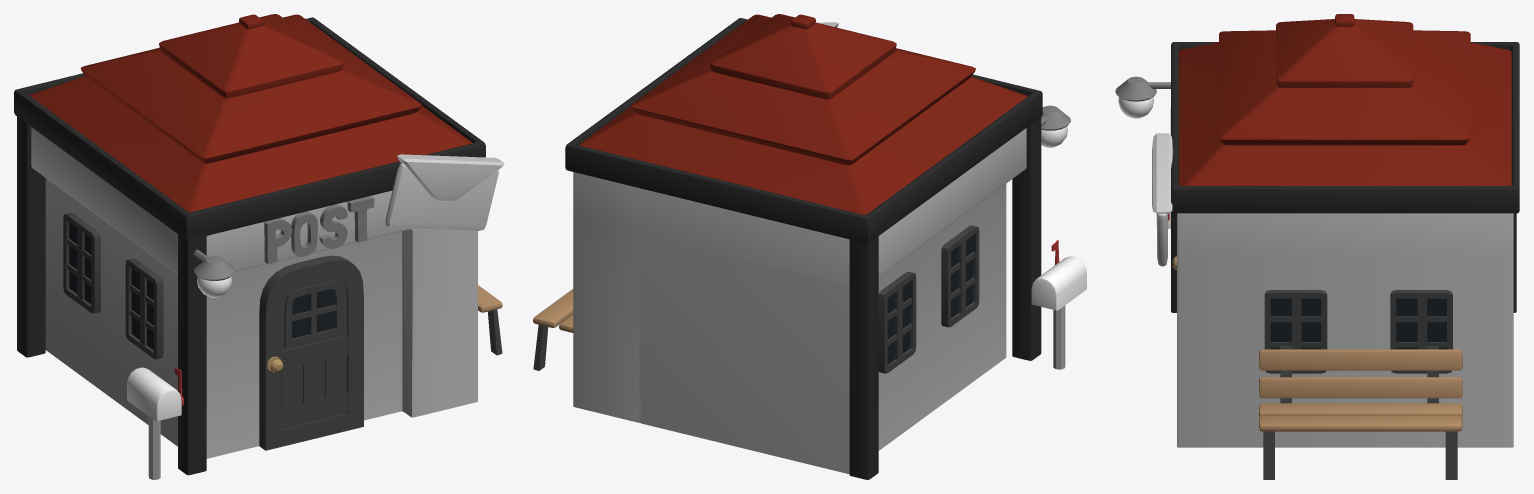
The model's file is SM_postoffice.fbx.
The picture shows the model from 3 angles, left to right: view 1: azimuth 30°, elevation 25°; view 2: azimuth 150°, elevation 25°; view 3: azimuth 270°, elevation 25°; orthographic projection.
Parts seen in each view (by area): view 1: Object058; view 2: Object058; view 3: Object058.
Part boxes in pixels (bbox=[...]): Object058: bbox=[14, 14, 504, 479]; Object058: bbox=[533, 14, 1086, 479]; Object058: bbox=[1115, 14, 1519, 479].
Bounding box in the file's own units: 191 × 164 × 166.
